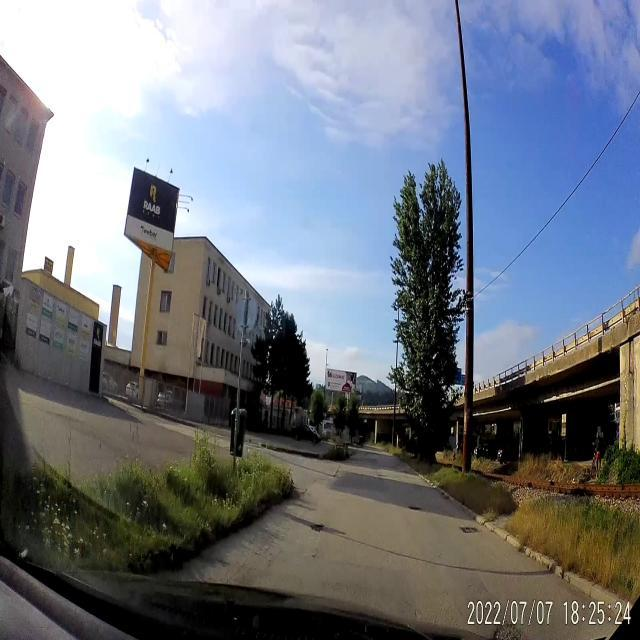Manhole: (459, 520, 479, 540)
Pothole: (304, 514, 327, 540), (404, 498, 421, 516)
